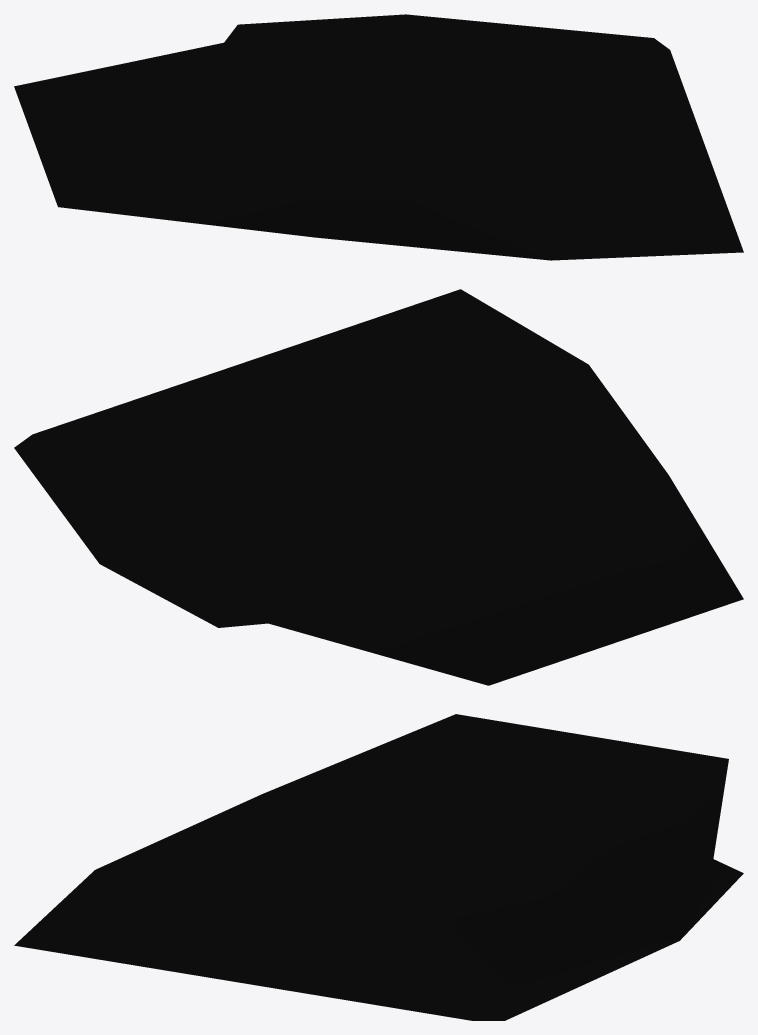
The picture shows the model from 3 angles, top to bottom: view 1: azimuth 30°, elevation 25°; view 2: azimuth 150°, elevation 25°; view 3: azimuth 270°, elevation 25°; orthographic projection. The views are drawn at different scales.
Parts seen in each view (by area): view 1: Joint_0_Object_0; view 2: Joint_0_Object_0; view 3: Joint_0_Object_0.
Boxes of the visible parts, <box> form: Joint_0_Object_0: <box>14,14,743,260</box>; Joint_0_Object_0: <box>14,289,743,685</box>; Joint_0_Object_0: <box>14,714,743,1020</box>.
Size of the model in its own units: 925 by 0.7993 by 930.
Materials: 1 (1 with a texture image).
